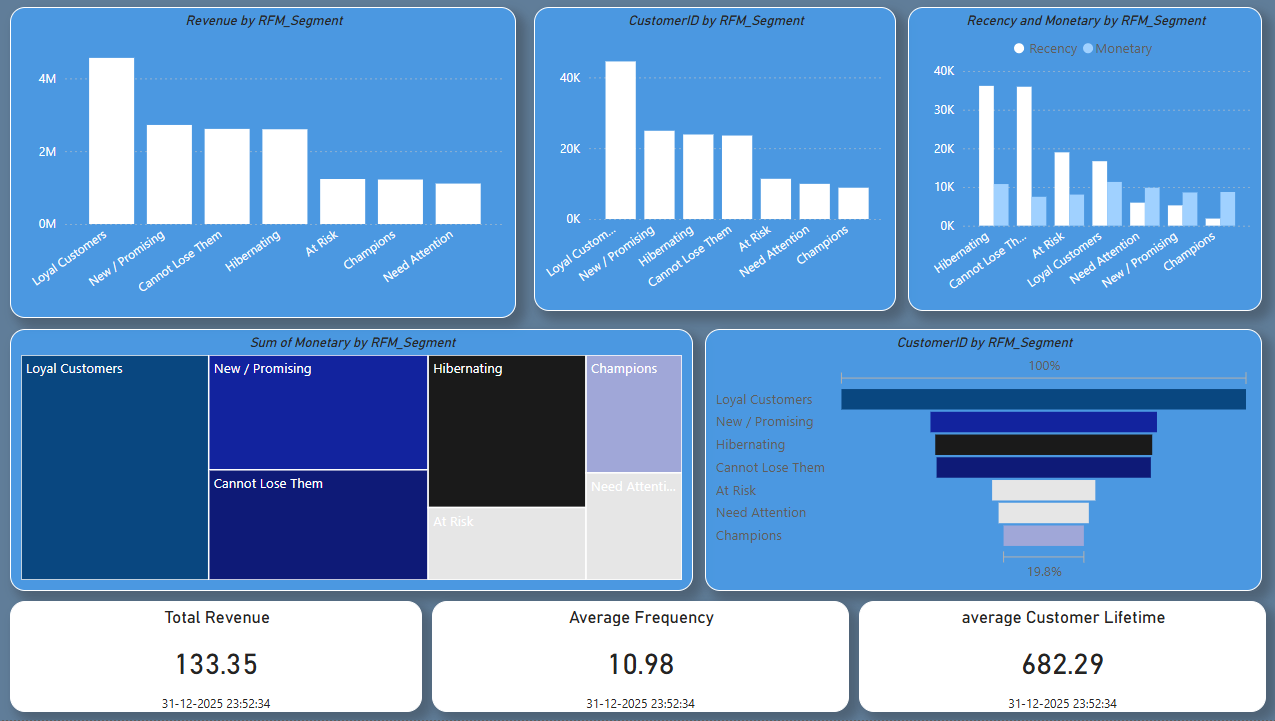

The dashboard page shown, as its layout file describes it:
{"tool":"powerbi","page":{"name":"RFM Customer Segmention  Analysis Dashboard","canvas":[1280,720],"ordinal":1},"visuals":[{"type":"columnChart","fields":{"Category":["customer_segments.RFM_Segment"],"Y":["Sum(cleaned_transactions (2).Revenue)"]},"box":[13,7,506,311],"z":0},{"type":"columnChart","fields":{"Category":["customer_segments.RFM_Segment"],"Y":["CountNonNull(cleaned_transactions (2).CustomerID)"]},"box":[537,7,362,304],"z":1000},{"type":"lineClusteredColumnComboChart","fields":{"Y":["Sum(customer_segments.Recency)","Max(customer_segments.Monetary)"],"Category":["customer_segments.RFM_Segment"]},"box":[911,7,354,304],"z":2000},{"type":"treemap","fields":{"Group":["customer_segments.RFM_Segment"],"Values":["Sum(customer_segments.Monetary)"]},"box":[12.6,328.8,683.8,262.6],"z":3000},{"type":"funnel","fields":{"Category":["customer_segments.RFM_Segment"],"Y":["CountNonNull(cleaned_transactions (2).CustomerID)"]},"box":[708.1,328.8,557.3,262.6],"z":4000},{"type":"kpi","title":"Total Revenue","fields":{"Indicator":["cleaned_transactions (2).Total Revenue"],"TrendLine":["cleaned_transactions (2).InvoiceDate"]},"box":[12.6,601.1,412.4,110.9],"z":5000},{"type":"kpi","title":"Average Frequency","fields":{"TrendLine":["cleaned_transactions (2).InvoiceDate"],"Indicator":["Avg(customer_segments.Frequency)"]},"box":[434.8,601.1,417.3,110.9],"z":6000},{"type":"kpi","title":"average Customer Lifetime","fields":{"TrendLine":["cleaned_transactions (2).InvoiceDate"],"Indicator":["Avg(customer_segments.LifetimeDays)"]},"box":[861.8,601.1,407.5,110.9],"z":7000}]}

Visuals, with their boxes in screenshot pixels (x1, y1, x2, y2), scaled from the page's 1280x720 canvas onto the 1275x721 screenshot:
columnChart - customer_segments.RFM_Segment x Sum(cleaned_transactions (2).Revenue): bbox(13, 7, 517, 318)
columnChart - customer_segments.RFM_Segment x CountNonNull(cleaned_transactions (2).CustomerID): bbox(535, 7, 895, 311)
lineClusteredColumnComboChart - Sum(customer_segments.Recency) x Max(customer_segments.Monetary): bbox(907, 7, 1260, 311)
treemap - customer_segments.RFM_Segment x Sum(customer_segments.Monetary): bbox(13, 329, 694, 592)
funnel - customer_segments.RFM_Segment x CountNonNull(cleaned_transactions (2).CustomerID): bbox(705, 329, 1260, 592)
"Total Revenue" kpi: bbox(13, 602, 423, 713)
"Average Frequency" kpi: bbox(433, 602, 849, 713)
"average Customer Lifetime" kpi: bbox(858, 602, 1264, 713)
